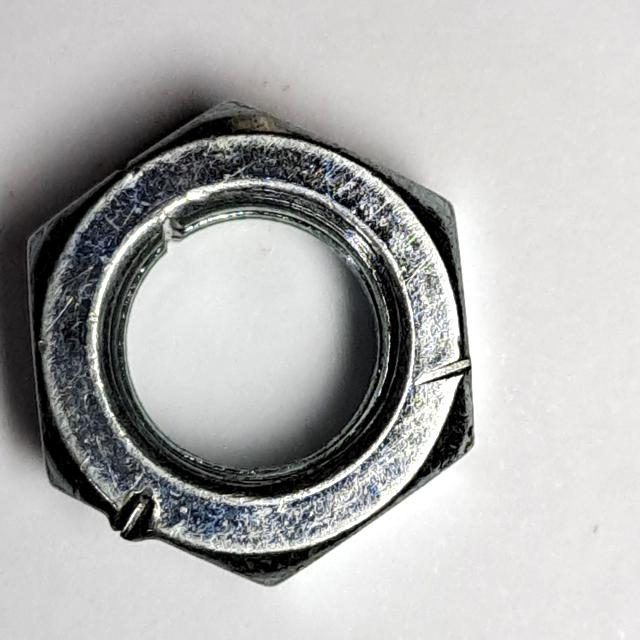Scratches: (19, 87, 488, 597)
